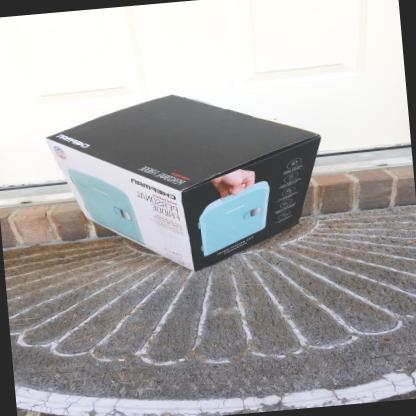box: (44, 91, 322, 271)
